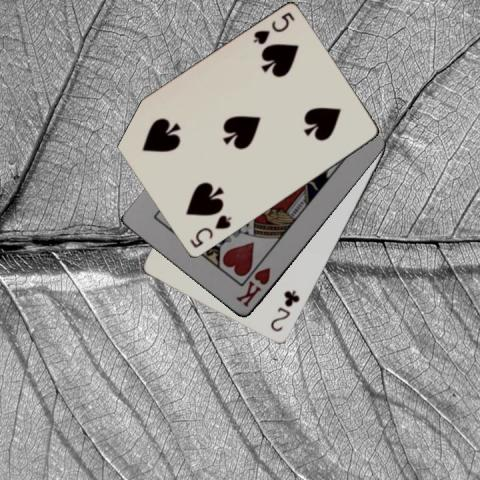2c: (268, 287, 301, 334)
5s: (249, 9, 296, 47), (186, 212, 232, 250)
Kh: (233, 265, 272, 308)
